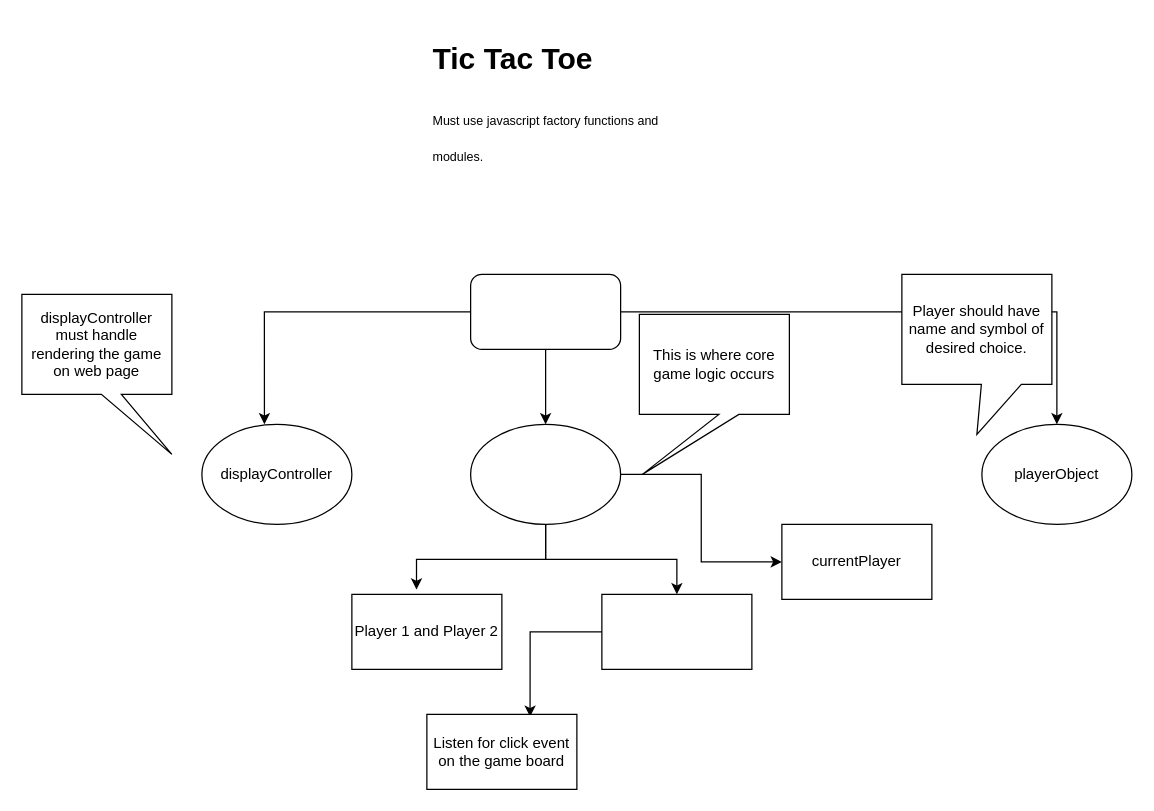
Some shapes in this 1154 by 811 pixel diagram are drawn without their labels. The shapes that lost their labels are listed below. From the top down, each one's centre as x and y in pixels, then its label:
pixel 545 311: Tic Tac Toe
pixel 545 473: gameController
pixel 676 631: Listener Methods
